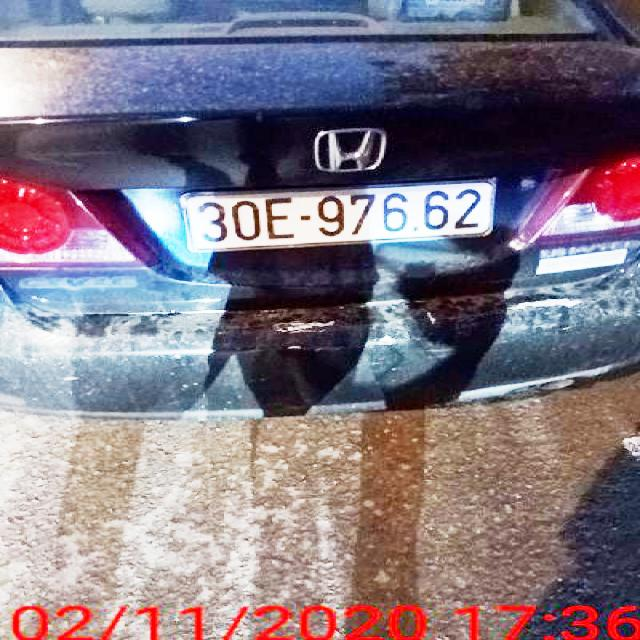license_plate: (185, 181, 496, 252)
